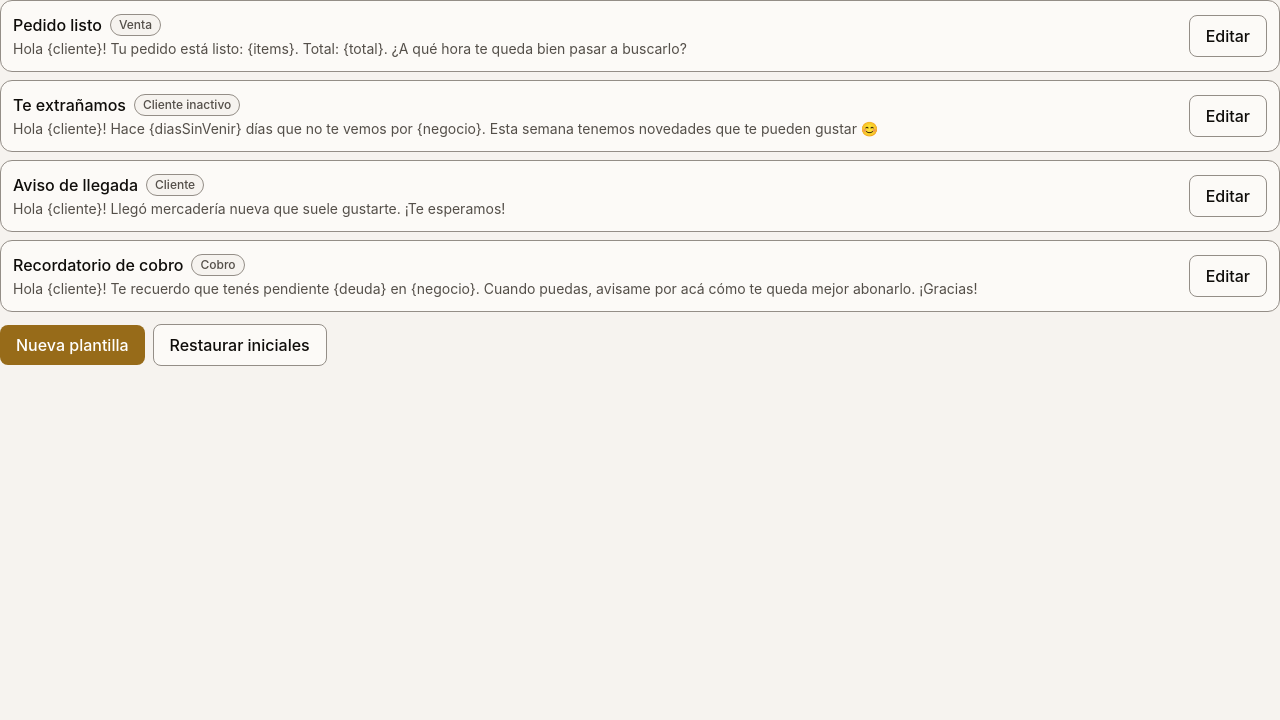
Test case: SeccionPlantillasWhatsApp › con plantillas › editar: precarga nombre y texto, guarda la lista completa con el cambio
Step 1. Click the button "Editar" in the row of "Pedido listo" → (1228, 36), box [1189,15,1267,57]
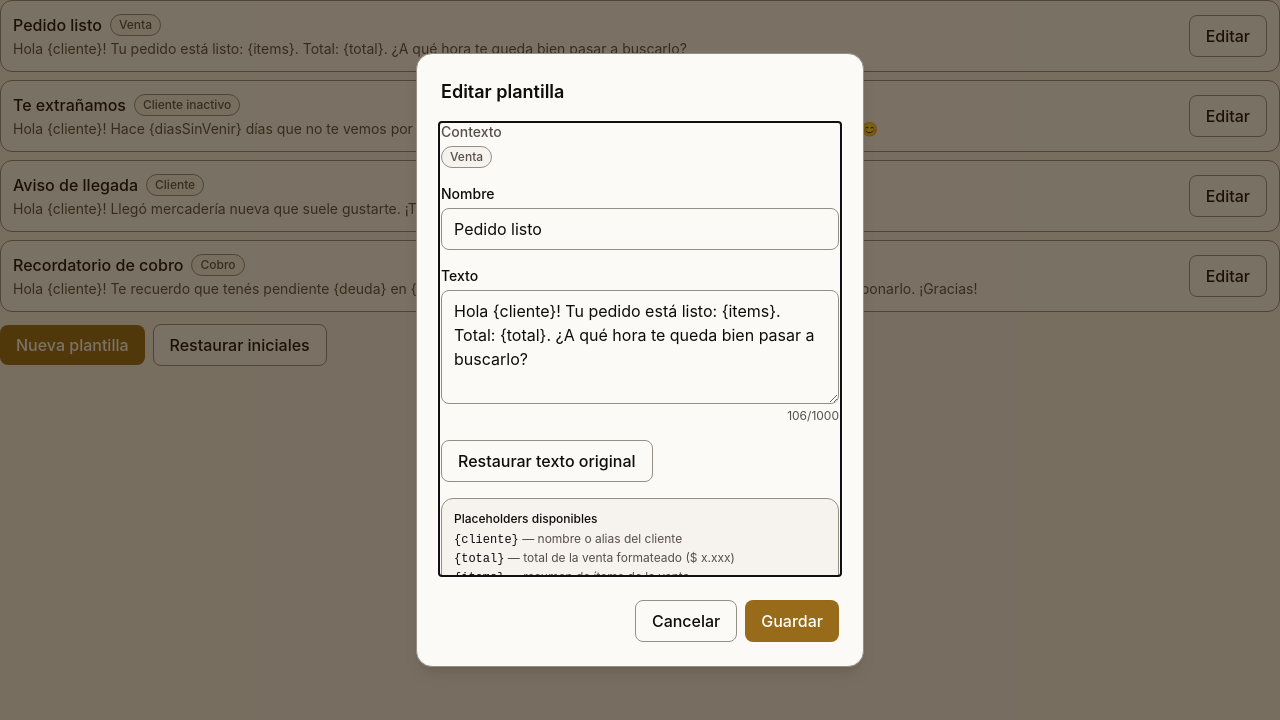
Result: the field labelled "Nombre" holds "Pedido listo"
Step 2. Replace the text in the field labelled "Nombre" with "Pedido para retirar" → (640, 229), box [441,208,839,250]
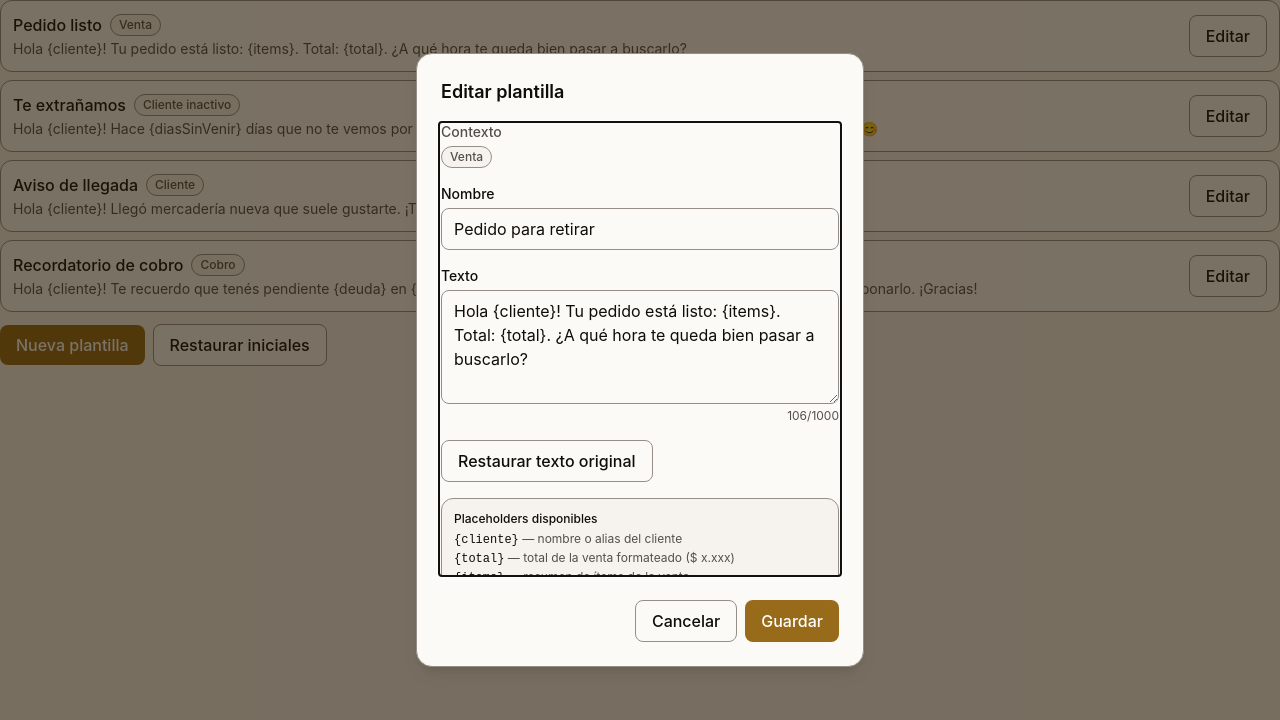
Step 3. Click the button "Guardar" → (792, 621), box [745,600,839,642]
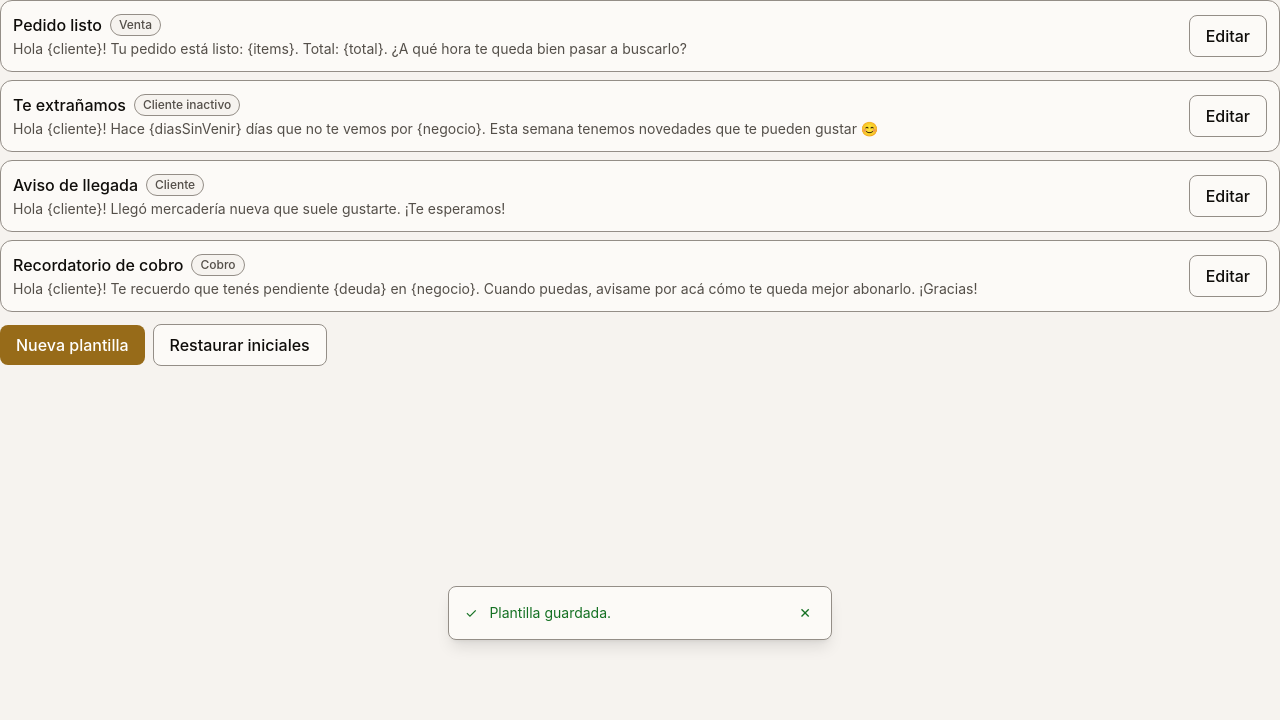
Result: the text "Plantilla guardada." is shown at [489,604,611,621]
